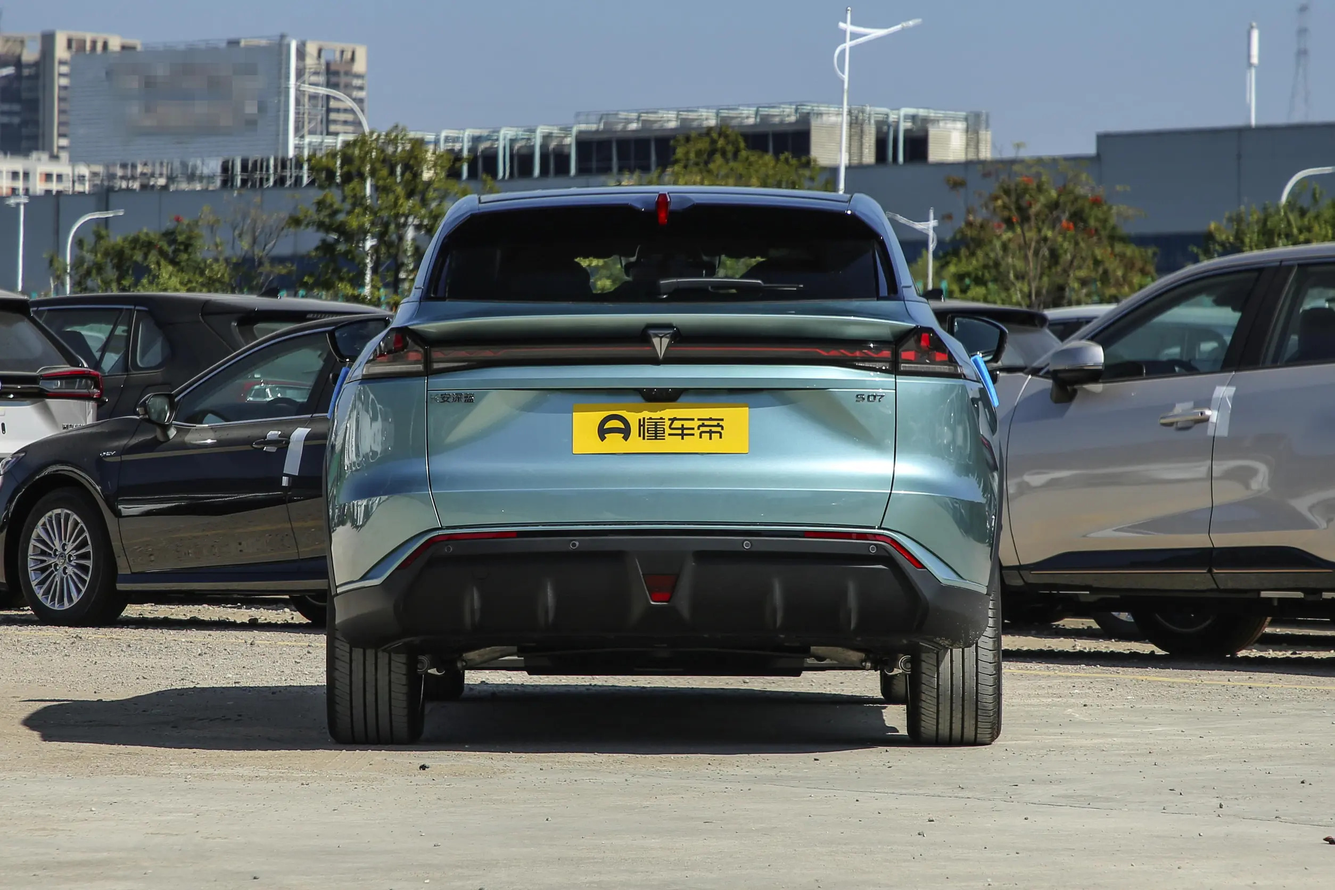Deepal: (650, 331, 672, 358)
